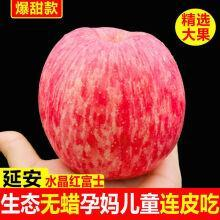apple: (30, 27, 185, 178)
